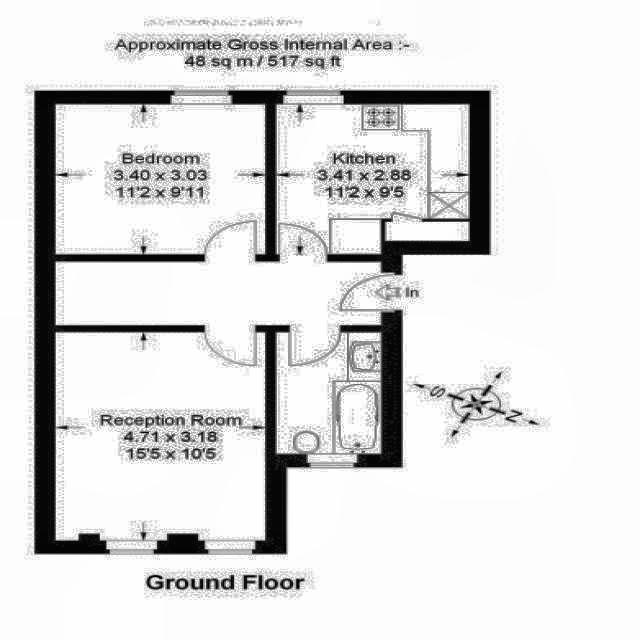room: (56, 331, 265, 541), (56, 103, 265, 255), (275, 103, 470, 255), (55, 261, 381, 325), (275, 332, 382, 454)
